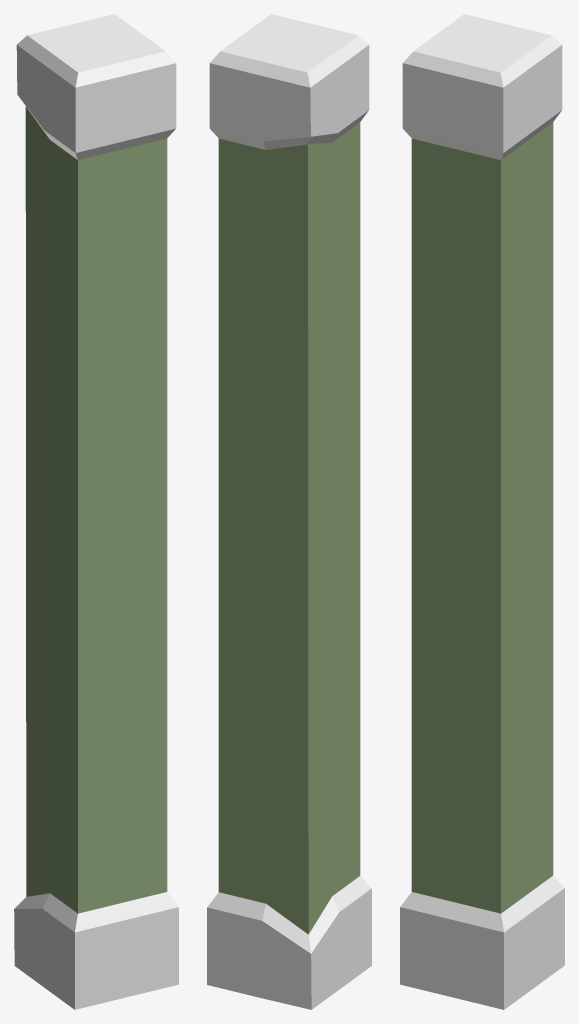
The model's file is g_o_RelaxWallCorner270.fbx.
3 renders of one model, left to right at view 1: azimuth 30°, elevation 25°; view 2: azimuth 150°, elevation 25°; view 3: azimuth 330°, elevation 25°, orthographic.
Parts seen in each view (by area): view 1: g_o_RelaxWallCorner270; view 2: g_o_RelaxWallCorner270; view 3: g_o_RelaxWallCorner270.
Part boxes in pixels (x1,y1,x2,y2): g_o_RelaxWallCorner270: [14, 14, 178, 1009]; g_o_RelaxWallCorner270: [207, 14, 371, 1009]; g_o_RelaxWallCorner270: [400, 14, 564, 1009].
Size of the model in its own units: 0.2198 by 1.88 by 0.2223.
